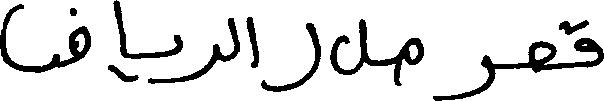X: (0, 0, 90, 77), (264, 18, 319, 96), (435, 50, 494, 100), (329, 14, 365, 79), (574, 15, 603, 72), (186, 39, 219, 85), (113, 0, 126, 86), (529, 36, 555, 77), (246, 12, 259, 72), (403, 33, 422, 69), (174, 30, 184, 87), (229, 13, 239, 65)
